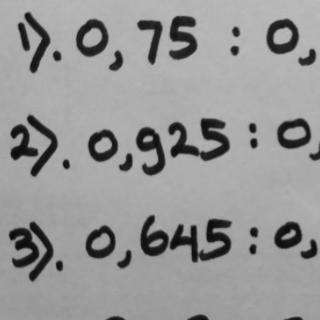.: (226, 43, 244, 59), (49, 48, 67, 64), (58, 156, 73, 174), (247, 222, 261, 239), (246, 242, 260, 258), (52, 258, 66, 274), (248, 135, 261, 151), (230, 22, 241, 40), (247, 119, 259, 135)
0: (260, 13, 301, 56), (84, 124, 121, 163), (275, 114, 313, 151), (76, 17, 110, 58), (83, 221, 119, 259), (271, 218, 304, 253)
2: (166, 116, 199, 160)
4: (168, 220, 199, 266)
5: (199, 210, 234, 267), (164, 10, 199, 63), (199, 114, 233, 164)
6: (140, 209, 170, 259)
7: (133, 16, 162, 67)
9: (135, 118, 167, 178)
